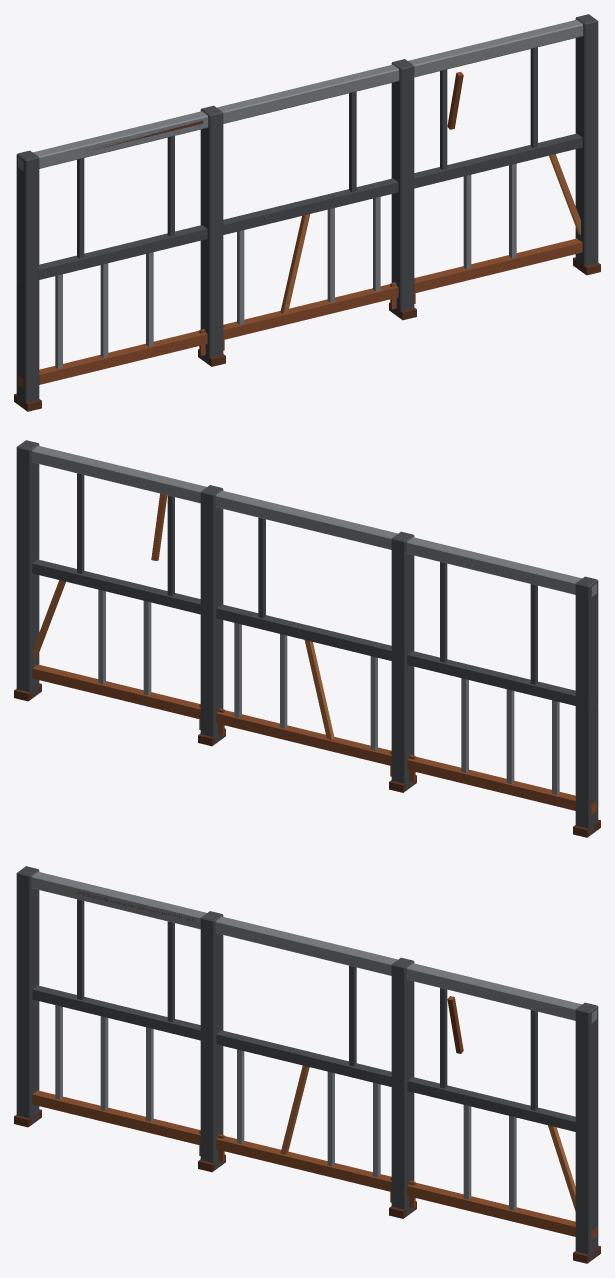
Rendered from bld_stair_rail.fbx.
3 views of the same model, one above another, from view 1: azimuth 30°, elevation 25°; view 2: azimuth 150°, elevation 25°; view 3: azimuth 330°, elevation 25° (orthographic).
Parts seen in each view (by area): view 1: bld_stair_rail; view 2: bld_stair_rail; view 3: bld_stair_rail.
Boxes of the visible parts, bbox=[...] form: bld_stair_rail: bbox=[14, 14, 600, 411]; bld_stair_rail: bbox=[14, 440, 600, 837]; bld_stair_rail: bbox=[14, 866, 600, 1263].
Size of the model in its own units: 2.4 by 1 by 0.1.
